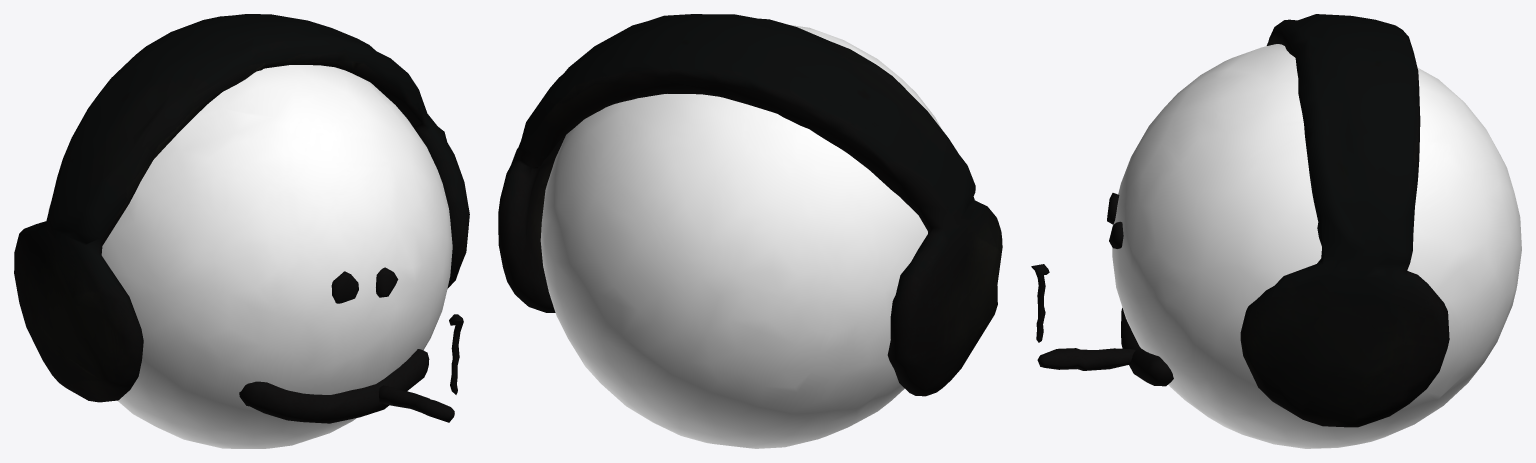
File: sartoshi-head.glb
3 views of the same model, side by side, from view 1: azimuth 30°, elevation 25°; view 2: azimuth 150°, elevation 25°; view 3: azimuth 270°, elevation 25° (orthographic). The views are drawn at different scales.
Parts seen in each view (by area): view 1: Shell; view 2: Shell; view 3: Shell.
Part boxes in pixels (x1,y1,x2,y2): Shell: (14,14,469,448); Shell: (498,14,1002,448); Shell: (1031,14,1521,448).
Bounding box in the file's own units: 0.5628 × 0.5163 × 0.5854.
Materials: 6 (6 with a texture image).
